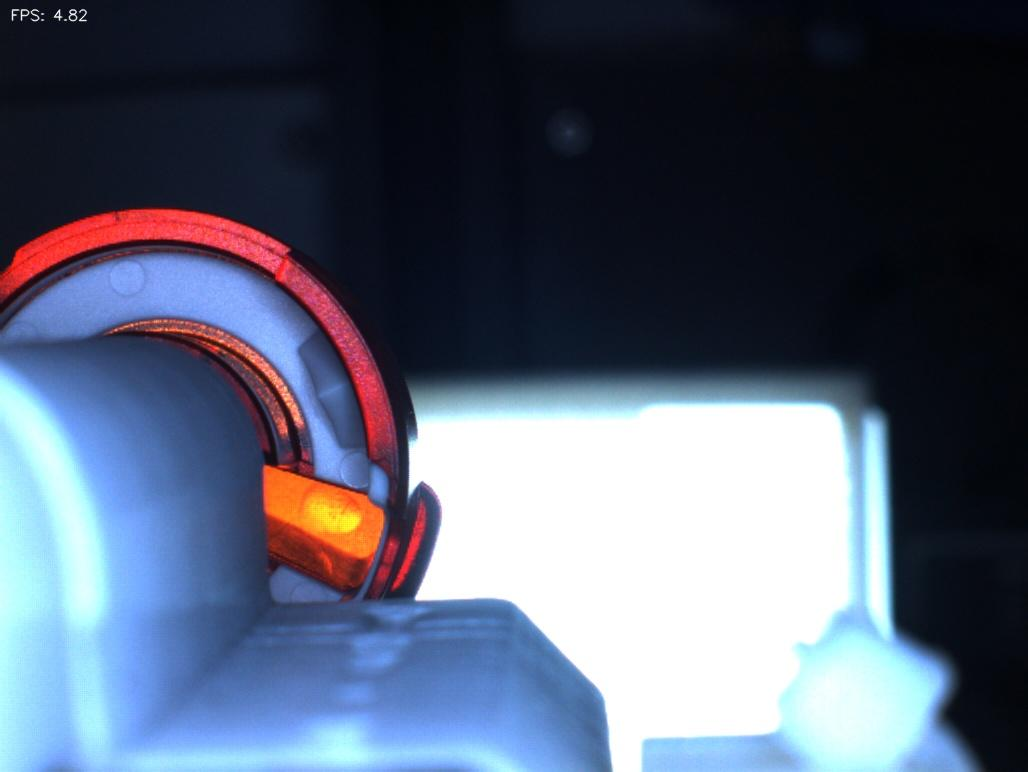Retassure: (274, 472, 372, 545)
